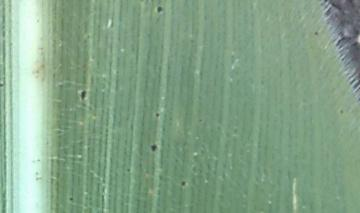tarspot: (147, 140, 162, 155), (76, 86, 90, 101), (153, 4, 166, 15), (177, 179, 190, 189), (337, 105, 346, 119), (122, 164, 133, 175), (66, 193, 76, 205), (152, 110, 164, 119), (311, 29, 321, 37)
